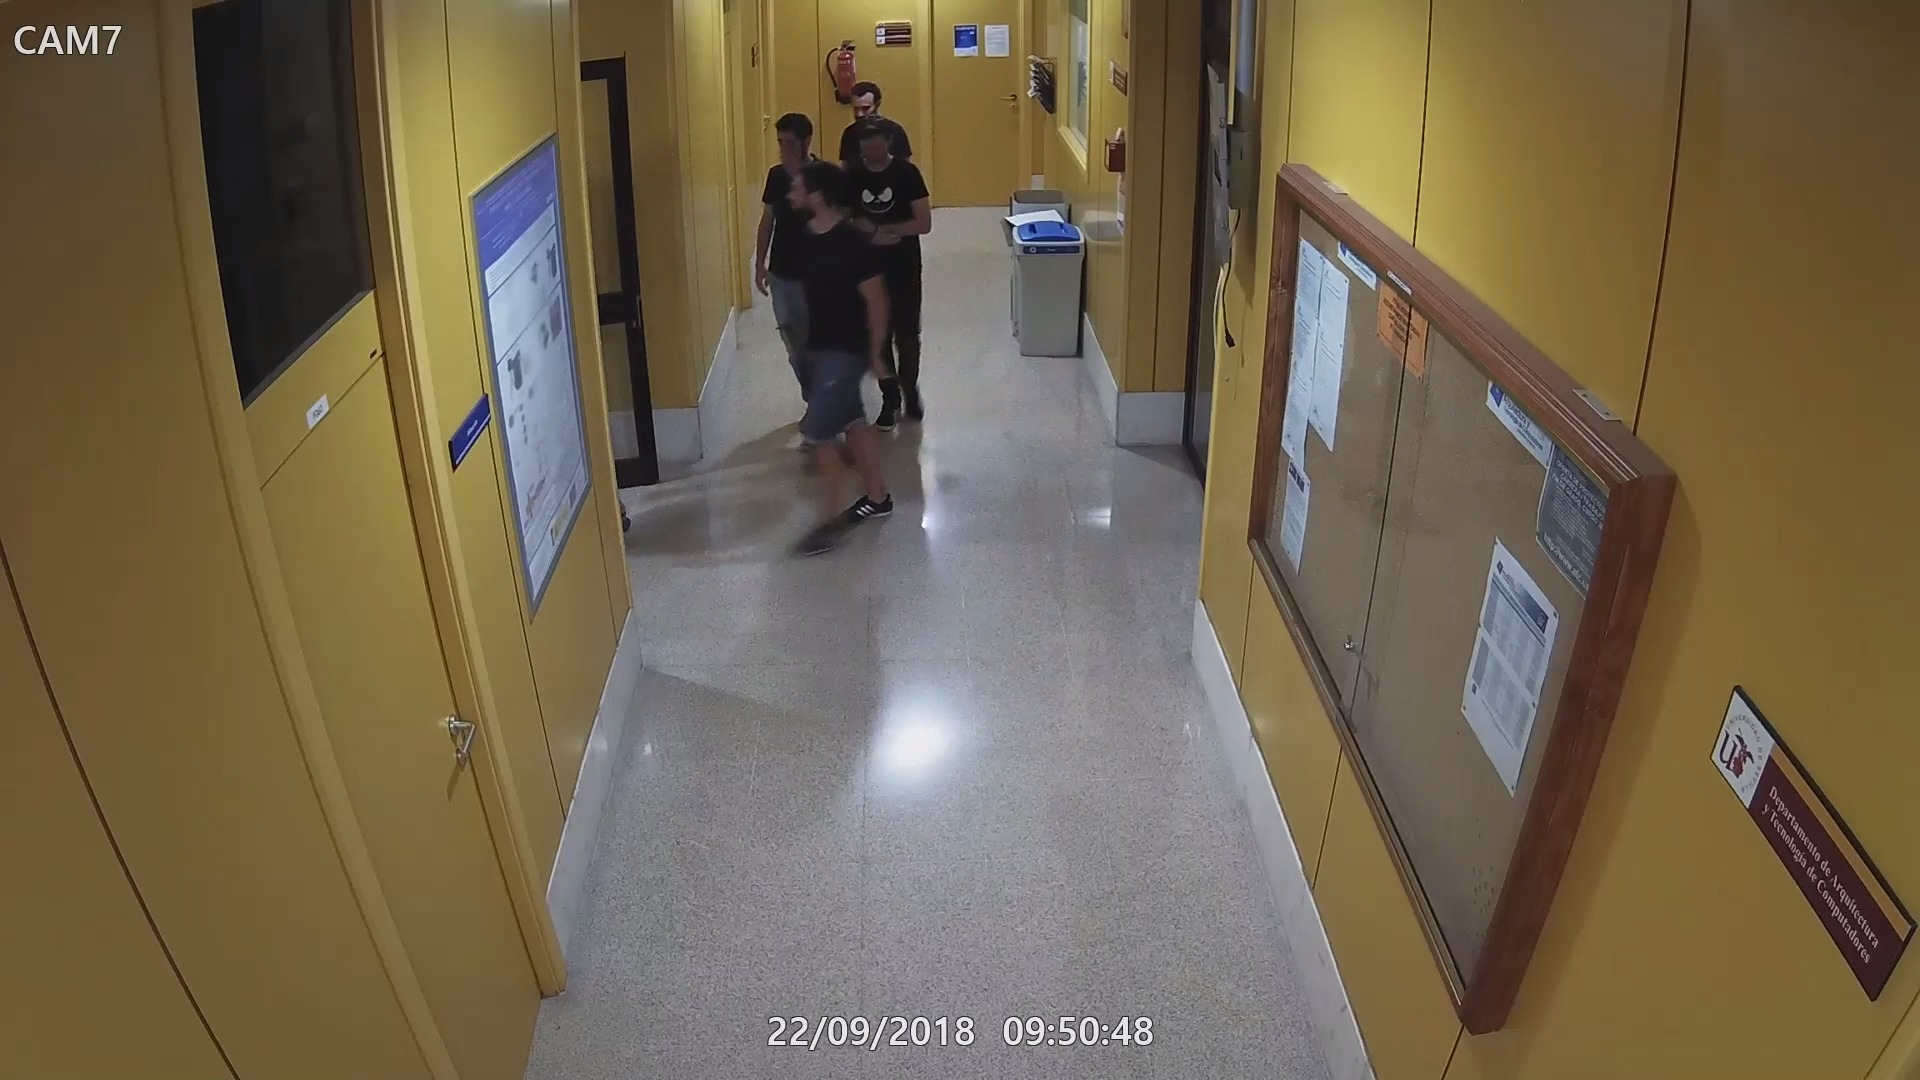Short_rifle: (771, 311, 816, 405)
